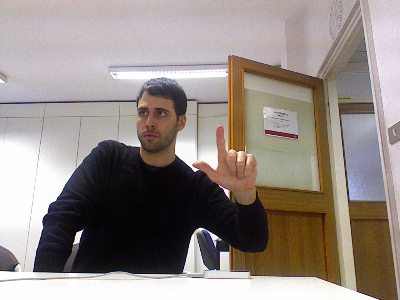枪: (190, 124, 257, 192)
